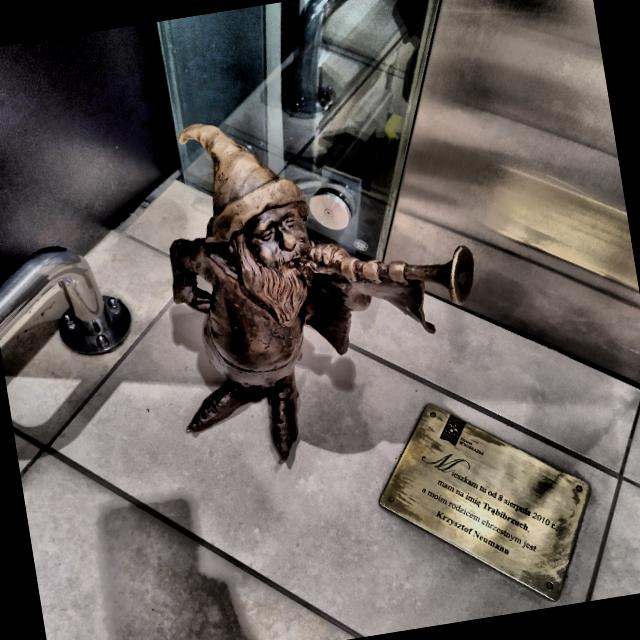Trabibrzuch: (170, 124, 473, 460)
